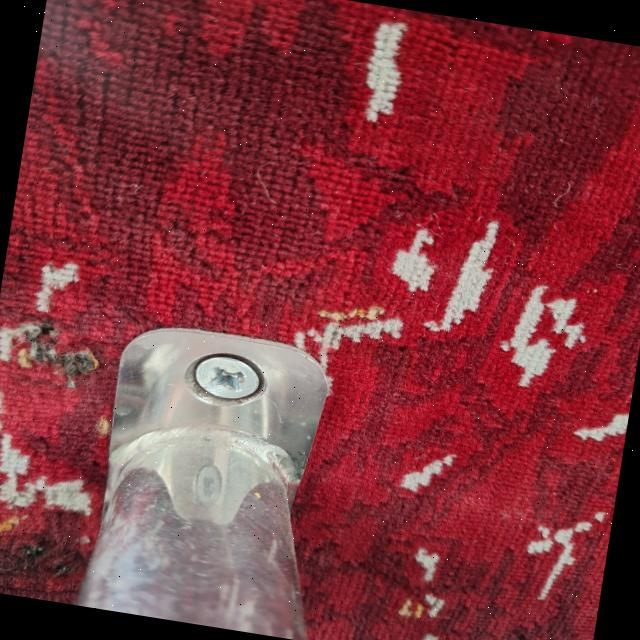Phillips: (196, 355, 258, 404)
